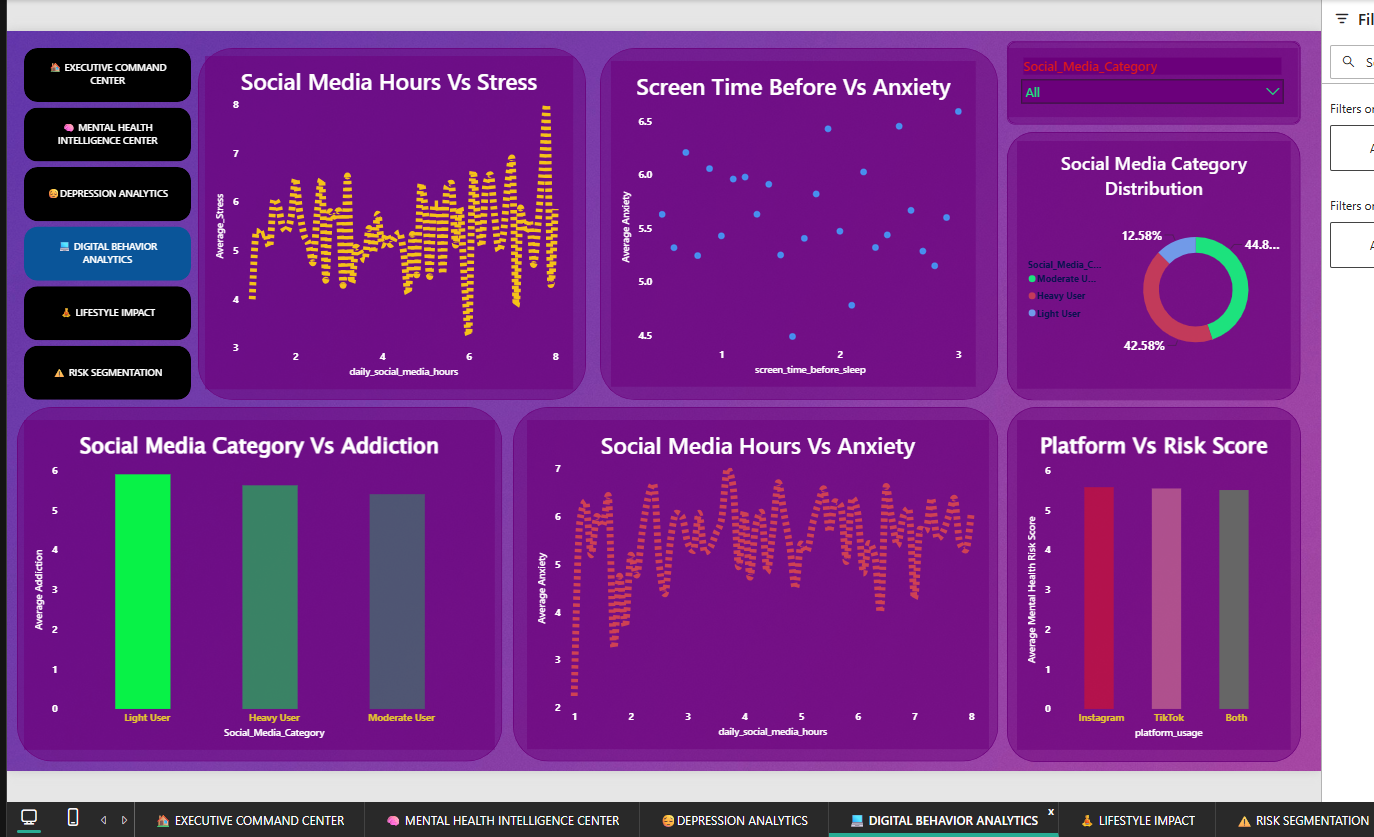

The dashboard page shown, as its layout file describes it:
{"tool":"powerbi","page":{"name":"💻 DIGITAL BEHAVIOR ANALYTICS","canvas":[1920,1080],"ordinal":3},"visuals":[{"type":"shape","box":[279.1,24.8,566.9,514.3],"z":1000},{"type":"shape","box":[1461.9,147.4,428.9,392.5],"z":2000},{"type":"shape","box":[14.6,550,709.1,517.9],"z":3000},{"type":"shape","box":[1461.8,14.7,429.4,122.1],"z":4000},{"type":"slicer","fields":{"Values":["vw_mental_health_analytics.Social_Media_Category"]},"box":[1461.9,24.8,424.6,100.7],"z":5000},{"type":"shape","box":[866.5,24.8,581.6,514.3],"z":6000},{"type":"shape","box":[739.7,550,709.1,517.9],"z":7000},{"type":"shape","box":[1461.2,549.4,429.6,518.7],"z":8000},{"type":"scatterChart","title":"Screen Time Before Vs Anxiety","fields":{"X":["vw_mental_health_analytics.screen_time_before_sleep"],"Y":["vw_mental_health_analytics.Average Anxiety"]},"box":[882.6,43.8,533.3,476.3],"z":9000},{"type":"clusteredColumnChart","title":" Social Media Category  Vs  Addiction","fields":{"Category":["vw_mental_health_analytics.Social_Media_Category"],"Y":["vw_mental_health_analytics.Average Addiction"]},"box":[24.8,568.4,688.2,482.2],"z":10000},{"type":"lineChart","title":"Social Media Hours Vs Stress","fields":{"Category":["vw_mental_health_analytics.daily_social_media_hours"],"Y":["vw_mental_health_analytics.Average_Stress"]},"box":[289.3,36.5,537.7,486.6],"z":11000},{"type":"lineChart","title":"Social Media Hours Vs Anxiety","fields":{"Category":["vw_mental_health_analytics.daily_social_media_hours"],"Y":["vw_mental_health_analytics.Average Anxiety"]},"box":[759.8,568.4,675.1,480.7],"z":12000},{"type":"donutChart","title":"Social Media Category Distribution","fields":{"Category":["vw_mental_health_analytics.Social_Media_Category"],"Y":["vw_mental_health_analytics.Total Students"]},"box":[1475.8,160.7,400.4,362.4],"z":13000},{"type":"clusteredColumnChart","title":"Platform Vs  Risk Score","fields":{"Category":["vw_mental_health_analytics.platform_usage"],"Y":["vw_mental_health_analytics.Average Mental Health Risk Score"]},"box":[1475.8,568.4,400.4,482.2],"z":14000},{"type":"pageNavigator","box":[24.8,24.8,244,514.3],"z":15000}]}

Visuals, with their boxes on the page's 1920x1080 design canvas (x1, y1, x2, y2). These are canvas units, not pixel positions in the 1374x837 screenshot, which may show the page scaled, cropped or inside an application window:
shape: 279/25/846/539
shape: 1462/147/1891/540
shape: 15/550/724/1068
shape: 1462/15/1891/137
slicer - vw_mental_health_analytics.Social_Media_Category: 1462/25/1886/126
shape: 866/25/1448/539
shape: 740/550/1449/1068
shape: 1461/549/1891/1068
"Screen Time Before Vs Anxiety" scatterChart: 883/44/1416/520
" Social Media Category  Vs  Addiction" clusteredColumnChart: 25/568/713/1051
"Social Media Hours Vs Stress" lineChart: 289/36/827/523
"Social Media Hours Vs Anxiety" lineChart: 760/568/1435/1049
"Social Media Category Distribution" donutChart: 1476/161/1876/523
"Platform Vs  Risk Score" clusteredColumnChart: 1476/568/1876/1051
pageNavigator: 25/25/269/539
